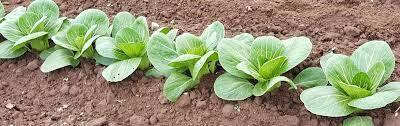Healthy-Pechay: (6, 0, 400, 108)
